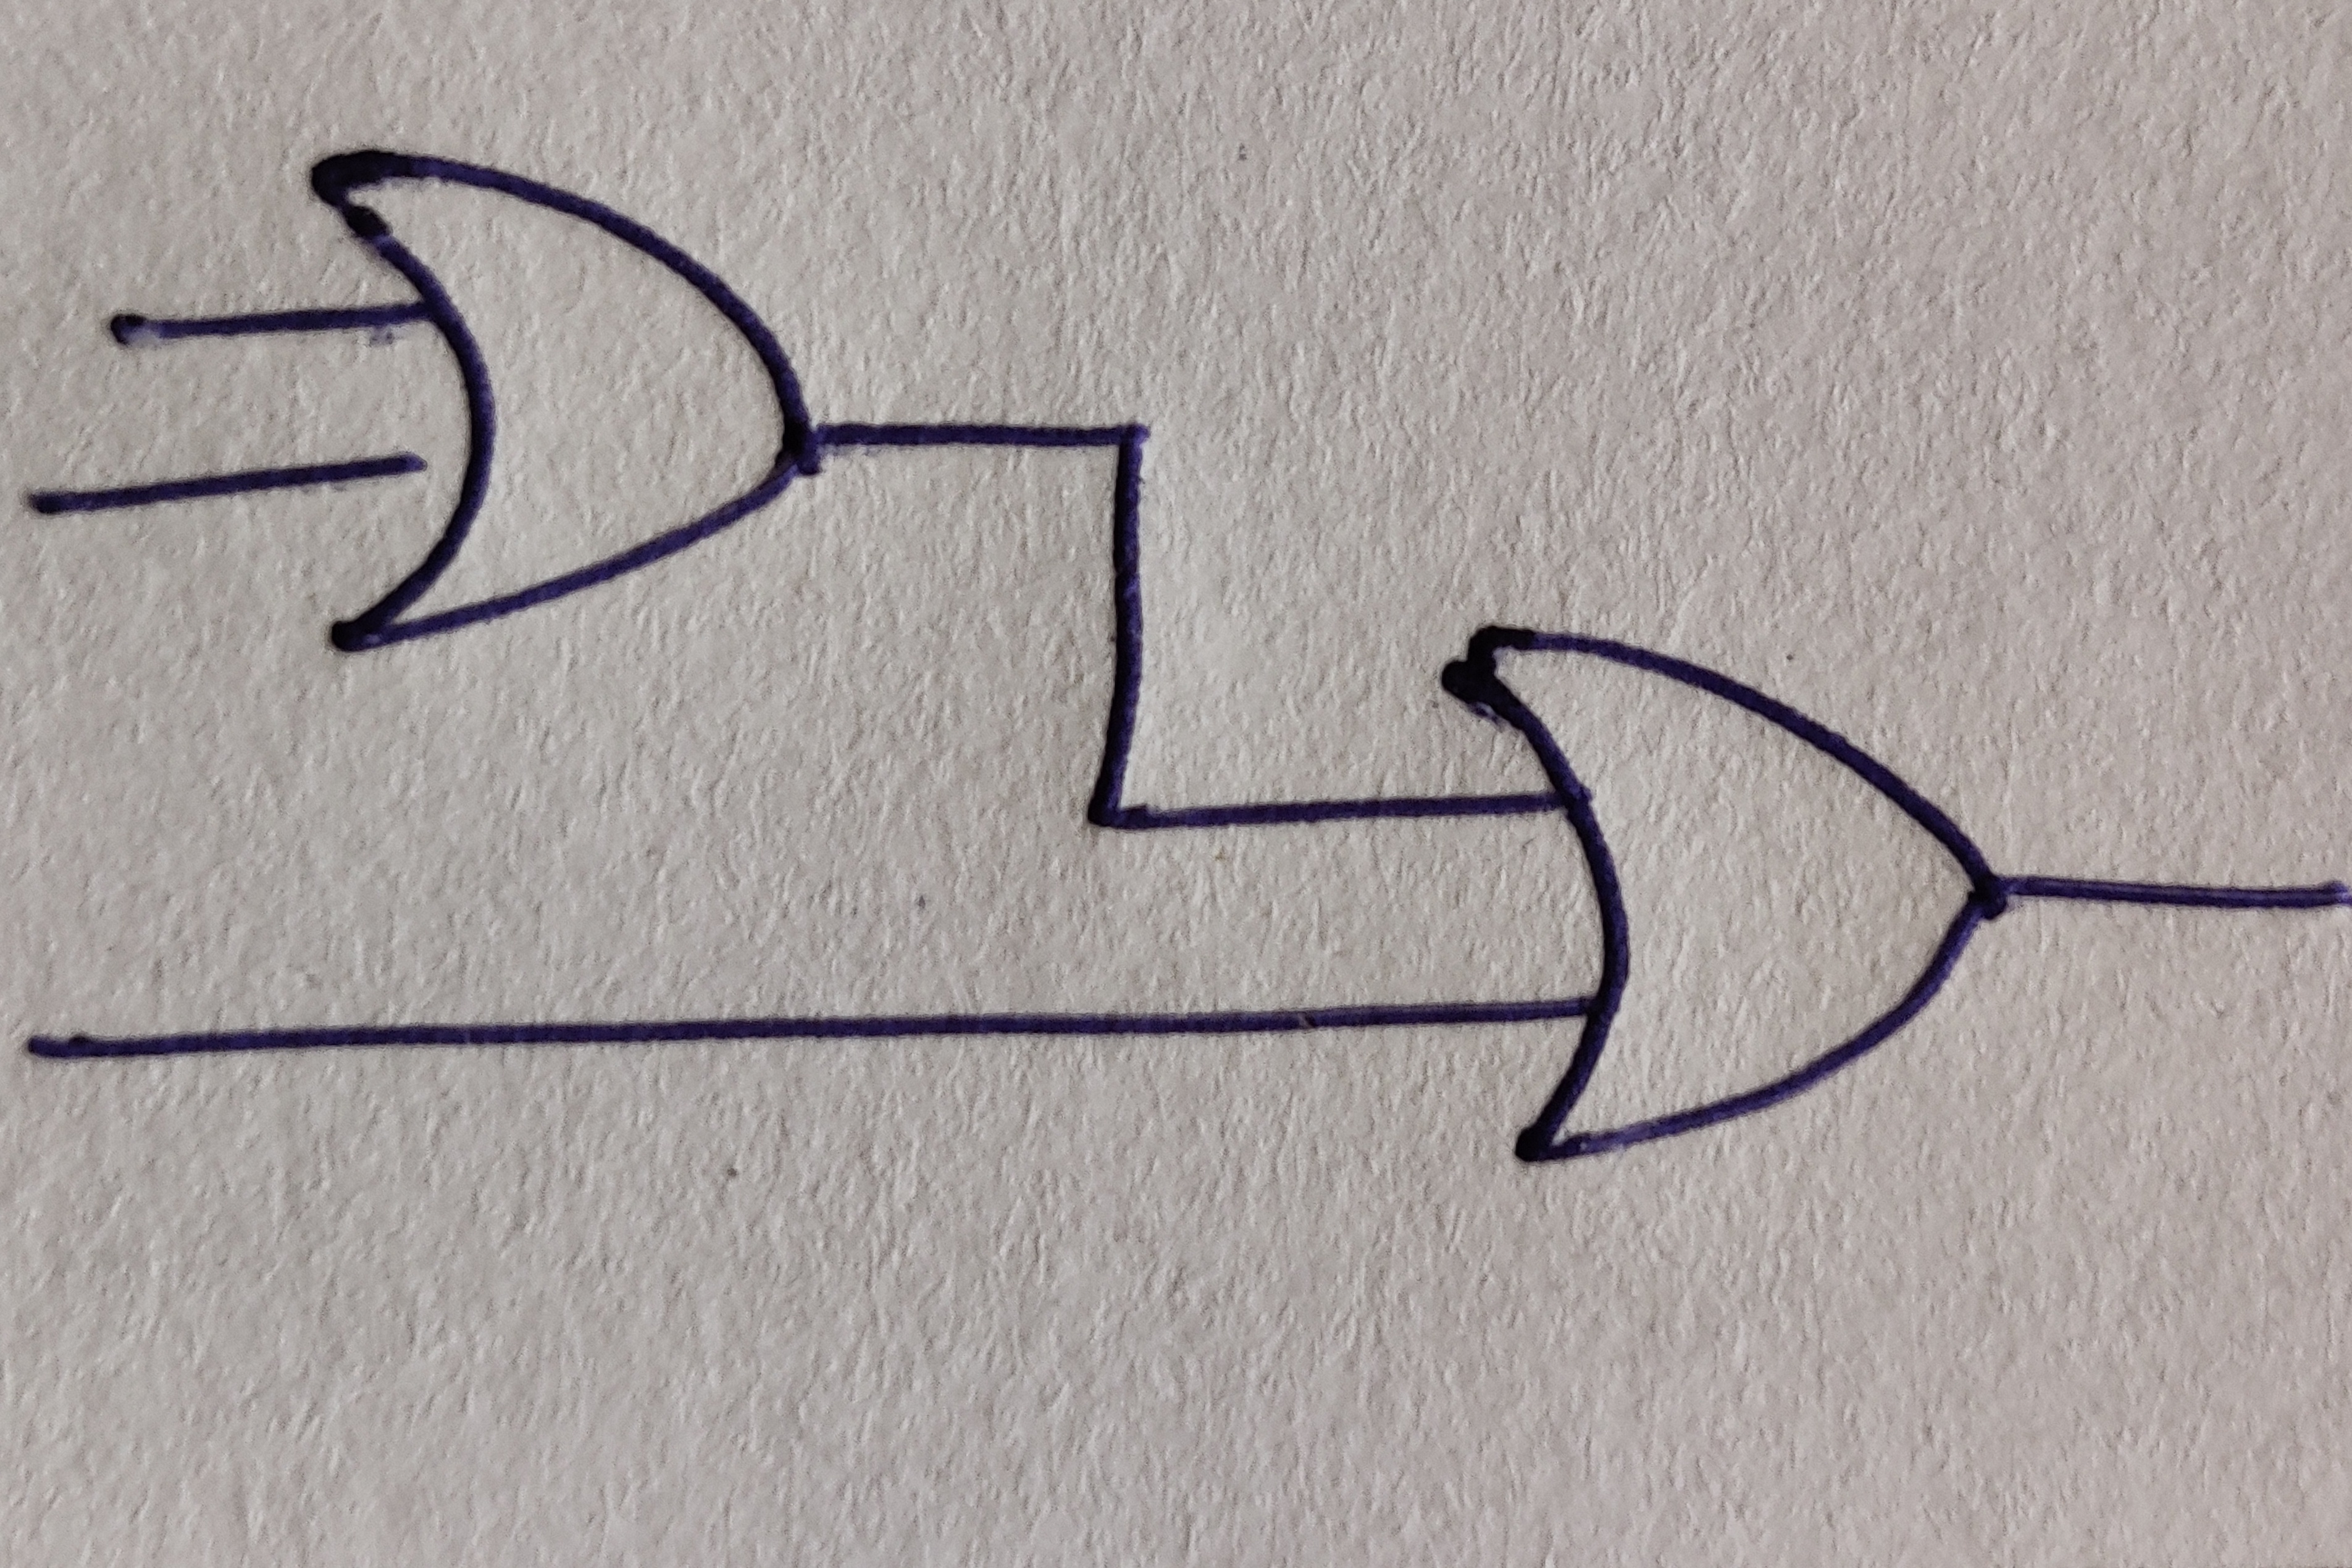or: (1442, 623, 2004, 1164), (310, 149, 821, 653)
